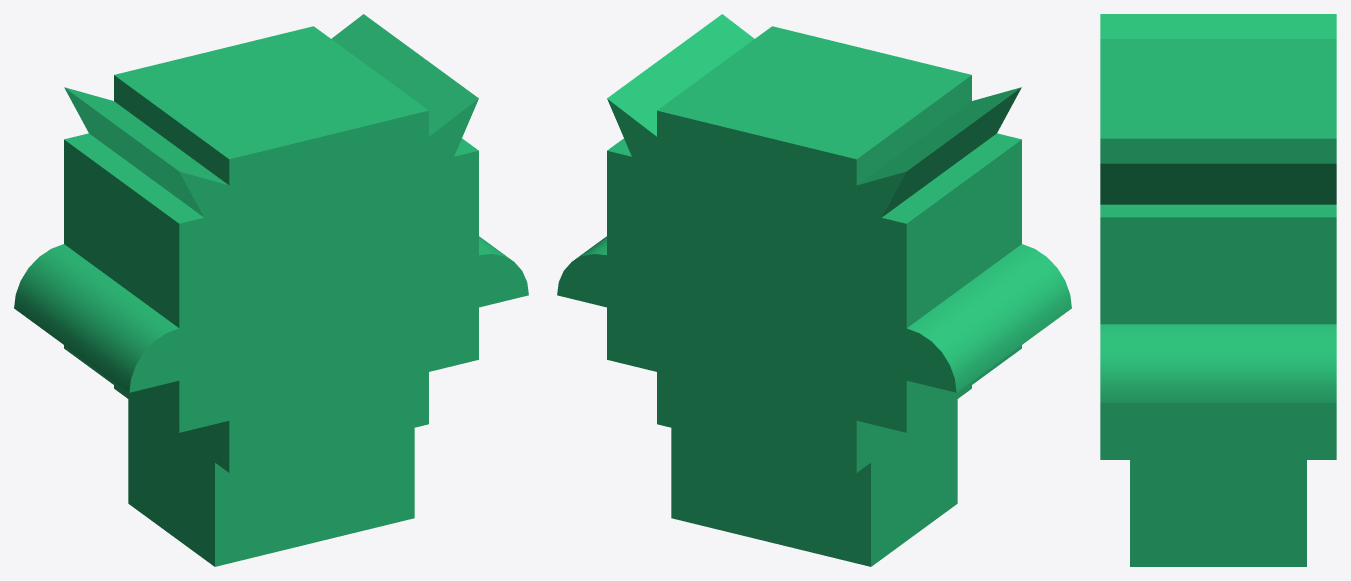
File: OrcHeadBack.dae
3 renders of one model, left to right at view 1: azimuth 30°, elevation 25°; view 2: azimuth 150°, elevation 25°; view 3: azimuth 270°, elevation 25°, orthographic. The views are drawn at different scales.
Parts seen in each view (by area): view 1: generated; view 2: generated; view 3: generated.
Part boxes in pixels (box(x1,y1,x2,y2)): generated: box(14, 14, 528, 566); generated: box(557, 14, 1071, 566); generated: box(1100, 14, 1336, 566).
Size of the model in its own units: 8 by 8 by 4.
1 material, 1 textured.
